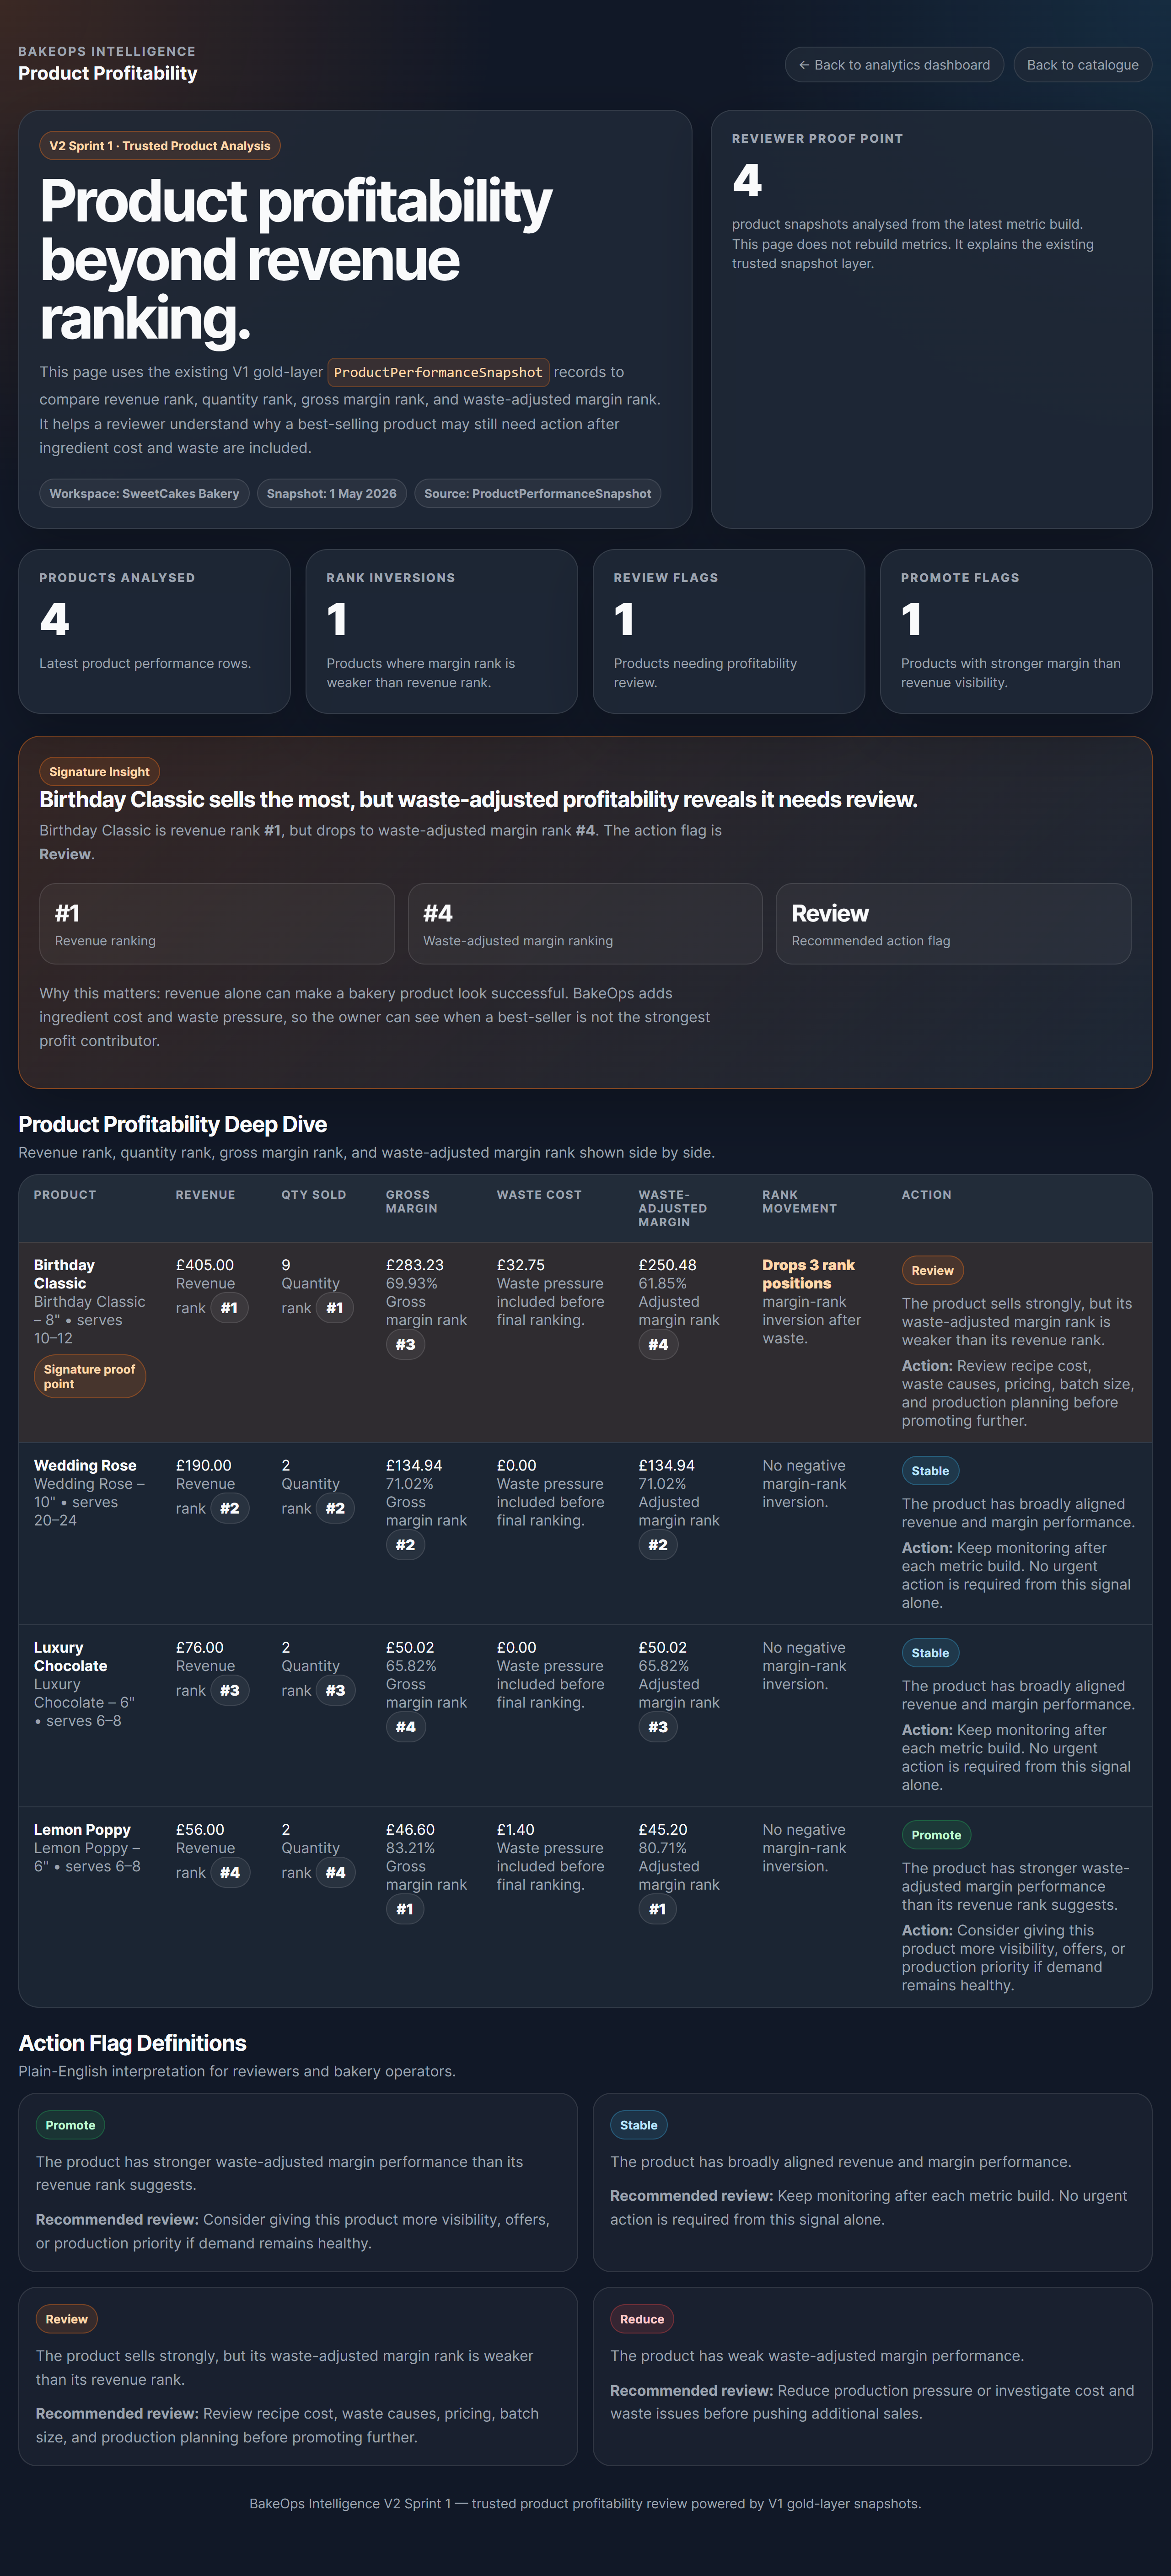

The page's visual inventory and layout, read from the dashboard file:
{"tool":"powerbi","page":{"name":"Rank Inversion Overview","canvas":[1280,720],"ordinal":0},"visuals":[{"type":"textbox","box":[16,0,464,96],"z":0},{"type":"textbox","box":[16,112,464,96],"z":1000},{"type":"tableEx","fields":{"Values":["Fact_ProductPerformanceSnapshot.cake_id","Fact_ProductPerformanceSnapshot.snapshot_date","Sum(Fact_ProductPerformanceSnapshot.revenue)","Fact_ProductPerformanceSnapshot.revenue_rank","Sum(Fact_ProductPerformanceSnapshot.waste_adjusted_margin)","Fact_ProductPerformanceSnapshot.waste_adjusted_margin_rank","Sum(Fact_ProductPerformanceSnapshot.Margin Rank Gap)","Fact_ProductPerformanceSnapshot.action_flag","Fact_ProductPerformanceSnapshot.action_reason"]},"box":[0,368,1280,176],"z":2000},{"type":"clusteredColumnChart","title":"Revenue Rank vs Waste-Adjusted Margin Rank","fields":{"Category":["Fact_ProductPerformanceSnapshot.cake_id"],"Y":["Sum(Fact_ProductPerformanceSnapshot.revenue_rank)","Sum(Fact_ProductPerformanceSnapshot.waste_adjusted_margin_rank)"]},"box":[496,0,784,336],"z":3000},{"type":"cardVisual","fields":{"Data":["z_Measures.Total Revenue"]},"box":[0,576,336,96],"z":4000},{"type":"cardVisual","fields":{"Data":["z_Measures.Waste Adjusted Margin"]},"box":[352,576,240,112],"z":5000},{"type":"cardVisual","fields":{"Data":["z_Measures.Review Product Count"]},"box":[640,576,256,112],"z":6000},{"type":"cardVisual","fields":{"Data":["z_Measures.Promote Product Count"]},"box":[960,576,272,112],"z":7000}]}

Visuals, with their boxes on the page's 1280x720 design canvas (x1, y1, x2, y2). These are canvas units, not pixel positions in the 1171x2576 screenshot, which may show the page scaled, cropped or inside an application window:
textbox: region(16, 0, 480, 96)
textbox: region(16, 112, 480, 208)
tableEx - Fact_ProductPerformanceSnapshot.cake_id x Fact_ProductPerformanceSnapshot.snapshot_date: region(0, 368, 1280, 544)
"Revenue Rank vs Waste-Adjusted Margin Rank" clusteredColumnChart: region(496, 0, 1280, 336)
cardVisual - z_Measures.Total Revenue: region(0, 576, 336, 672)
cardVisual - z_Measures.Waste Adjusted Margin: region(352, 576, 592, 688)
cardVisual - z_Measures.Review Product Count: region(640, 576, 896, 688)
cardVisual - z_Measures.Promote Product Count: region(960, 576, 1232, 688)
